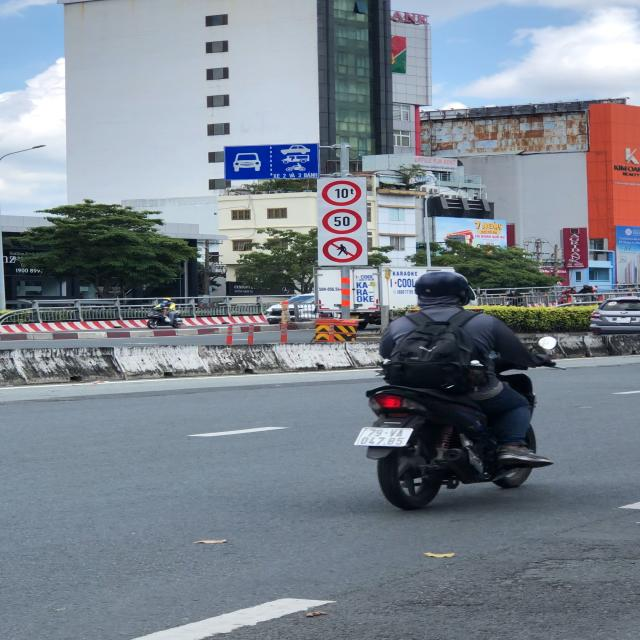Bien bao cam nguoi di bo: (321, 234, 365, 264)
Bien bao toc do toi da cho phep: (320, 208, 365, 235)
